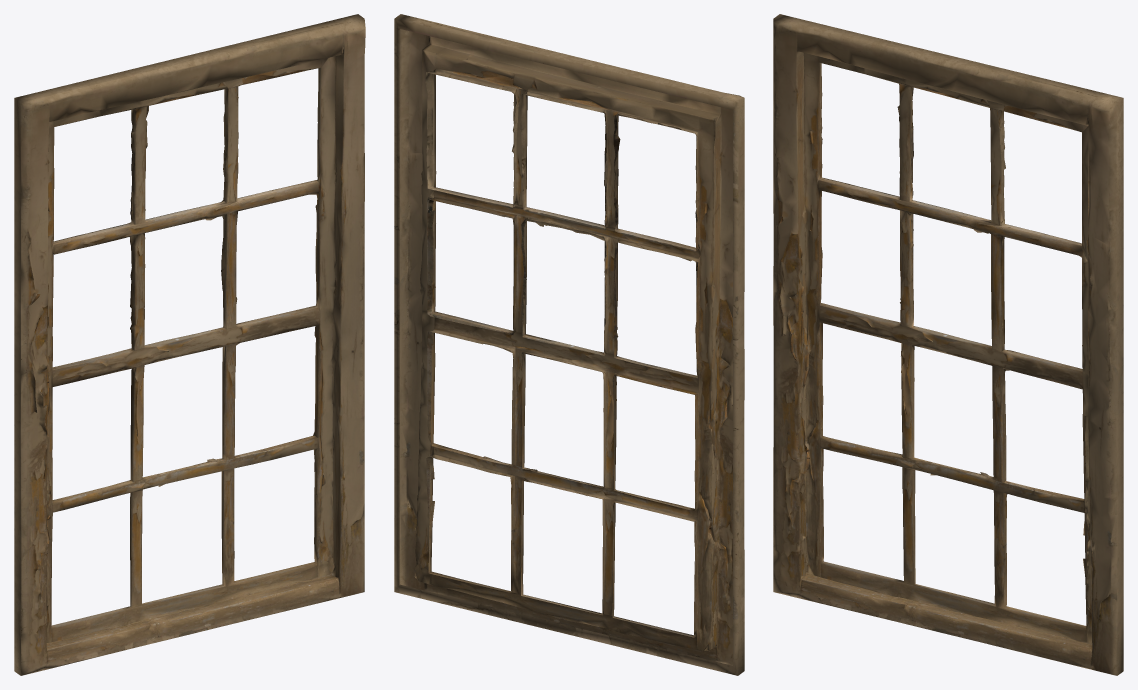
3 renders of one model, left to right at view 1: azimuth 30°, elevation 25°; view 2: azimuth 150°, elevation 25°; view 3: azimuth 330°, elevation 25°, orthographic.
Visible parts, largest first — view 1: vmfwcabdw_LOD0_TIER2_000; view 2: vmfwcabdw_LOD0_TIER2_000; view 3: vmfwcabdw_LOD0_TIER2_000.
Boxes of the visible parts, bbox=[...] form: vmfwcabdw_LOD0_TIER2_000: bbox=[14, 14, 365, 675]; vmfwcabdw_LOD0_TIER2_000: bbox=[394, 14, 744, 675]; vmfwcabdw_LOD0_TIER2_000: bbox=[773, 14, 1123, 675].
Bounding box in the file's own units: 1.27 × 2.03 × 0.1047.
1 material, 1 textured.
